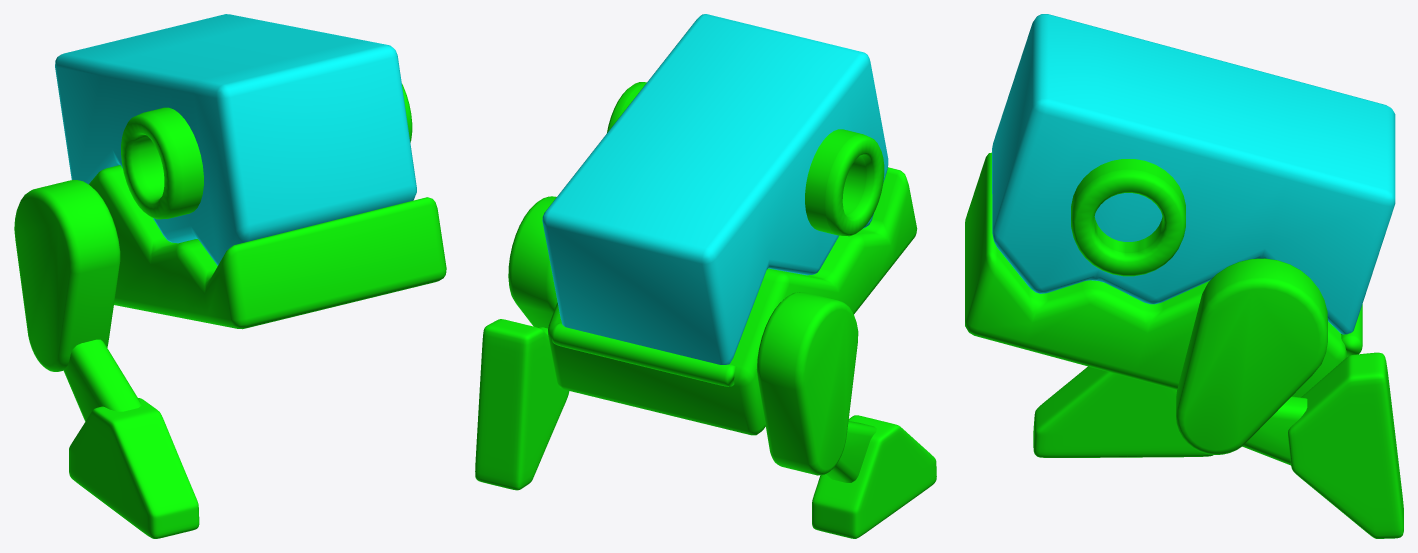
The picture shows the model from 3 angles, left to right: view 1: azimuth 30°, elevation 25°; view 2: azimuth 150°, elevation 25°; view 3: azimuth 270°, elevation 25°; orthographic projection. The views are drawn at different scales.
Visible parts, largest first — view 1: Top_Jaw, Lower_Jaw, Thighs_Left, Feet_Left, Eyes, Shin_Left; view 2: Top_Jaw, Lower_Jaw, Thighs_Left, Feet_Right, Feet_Left, Eyes, Thighs_Right, Hinge, Shin_Left; view 3: Top_Jaw, Lower_Jaw, Thighs_Right, Feet_Right, Feet_Left, Eyes, Shin_Right, Hinge.
Part boxes in pixels (left/top/right/bottom): Top_Jaw: left=55, top=14, right=416, bottom=265; Lower_Jaw: left=89, top=165, right=446, bottom=329; Thighs_Left: left=14, top=179, right=120, bottom=371; Feet_Left: left=69, top=398, right=199, bottom=538; Eyes: left=121, top=84, right=412, bottom=219; Shin_Left: left=63, top=339, right=141, bottom=421; Top_Jaw: left=542, top=14, right=888, bottom=364; Lower_Jaw: left=548, top=167, right=917, bottom=435; Thighs_Left: left=756, top=292, right=858, bottom=475; Feet_Right: left=475, top=319, right=569, bottom=490; Feet_Left: left=812, top=415, right=936, bottom=538; Eyes: left=607, top=82, right=884, bottom=236; Thighs_Right: left=508, top=196, right=557, bottom=328; Hinge: left=551, top=323, right=736, bottom=386; Shin_Left: left=825, top=421, right=876, bottom=482; Top_Jaw: left=992, top=14, right=1395, bottom=334; Lower_Jaw: left=965, top=152, right=1346, bottom=397; Thighs_Right: left=1176, top=258, right=1327, bottom=454; Feet_Right: left=1288, top=352, right=1403, bottom=538; Feet_Left: left=1033, top=366, right=1213, bottom=457; Eyes: left=1071, top=159, right=1185, bottom=276; Shin_Right: left=1242, top=396, right=1307, bottom=465; Hinge: left=1341, top=304, right=1362, bottom=357.
Bounding box in the file's own units: 2.03 × 2.68 × 2.32.
